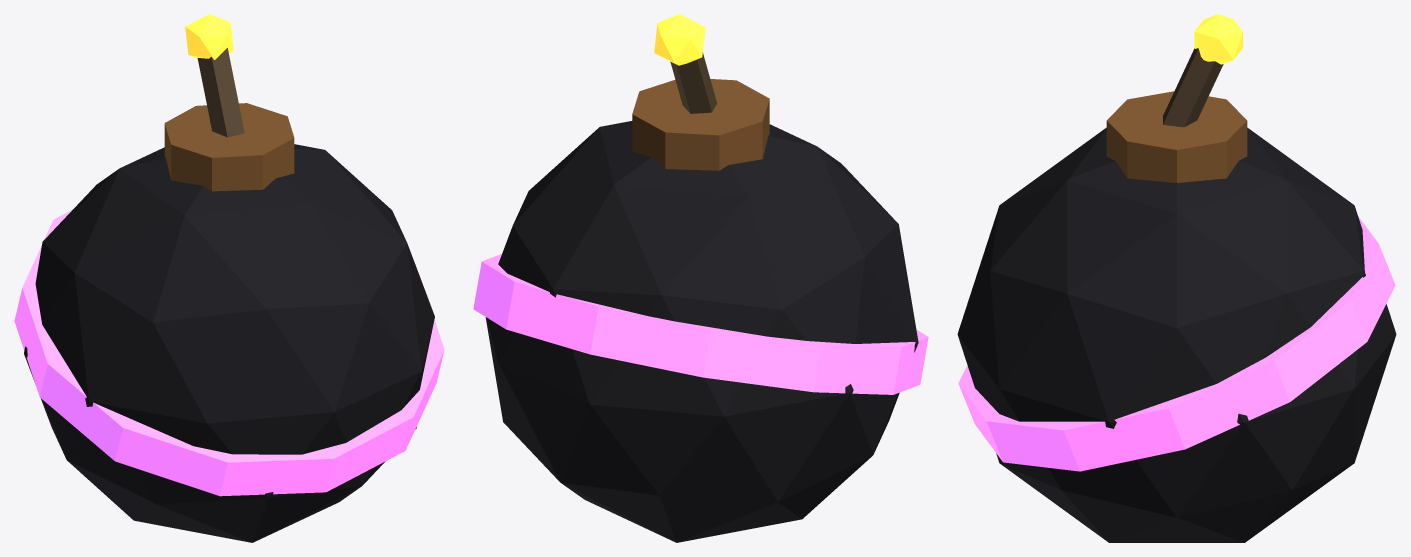
File: projectile_bomb.glb
The picture shows the model from 3 angles, left to right: view 1: azimuth 30°, elevation 25°; view 2: azimuth 150°, elevation 25°; view 3: azimuth 270°, elevation 25°; orthographic projection. The views are drawn at different scales.
Parts seen in each view (by area): view 1: Bomb_Shell, Bomb_RuneBand, Bomb_FuseCap, Bomb_Fuse, Bomb_Spark; view 2: Bomb_Shell, Bomb_RuneBand, Bomb_FuseCap, Bomb_Spark, Bomb_Fuse; view 3: Bomb_Shell, Bomb_RuneBand, Bomb_FuseCap, Bomb_Fuse, Bomb_Spark.
Part boxes in pixels (bbox=[...]): Bomb_Shell: bbox=[24, 144, 434, 542]; Bomb_RuneBand: bbox=[14, 209, 444, 496]; Bomb_FuseCap: bbox=[164, 103, 294, 191]; Bomb_Fuse: bbox=[197, 48, 244, 137]; Bomb_Spark: bbox=[185, 14, 233, 59]; Bomb_Shell: bbox=[485, 121, 918, 542]; Bomb_RuneBand: bbox=[473, 254, 928, 394]; Bomb_FuseCap: bbox=[632, 79, 769, 170]; Bomb_Spark: bbox=[654, 14, 705, 65]; Bomb_Fuse: bbox=[670, 52, 716, 113]; Bomb_Shell: bbox=[957, 127, 1396, 542]; Bomb_RuneBand: bbox=[958, 216, 1395, 471]; Bomb_FuseCap: bbox=[1106, 91, 1247, 182]; Bomb_Fuse: bbox=[1163, 48, 1223, 127]; Bomb_Spark: bbox=[1194, 14, 1242, 64].
Bounding box in the file's own units: 0.2448 × 0.3132 × 0.24.
